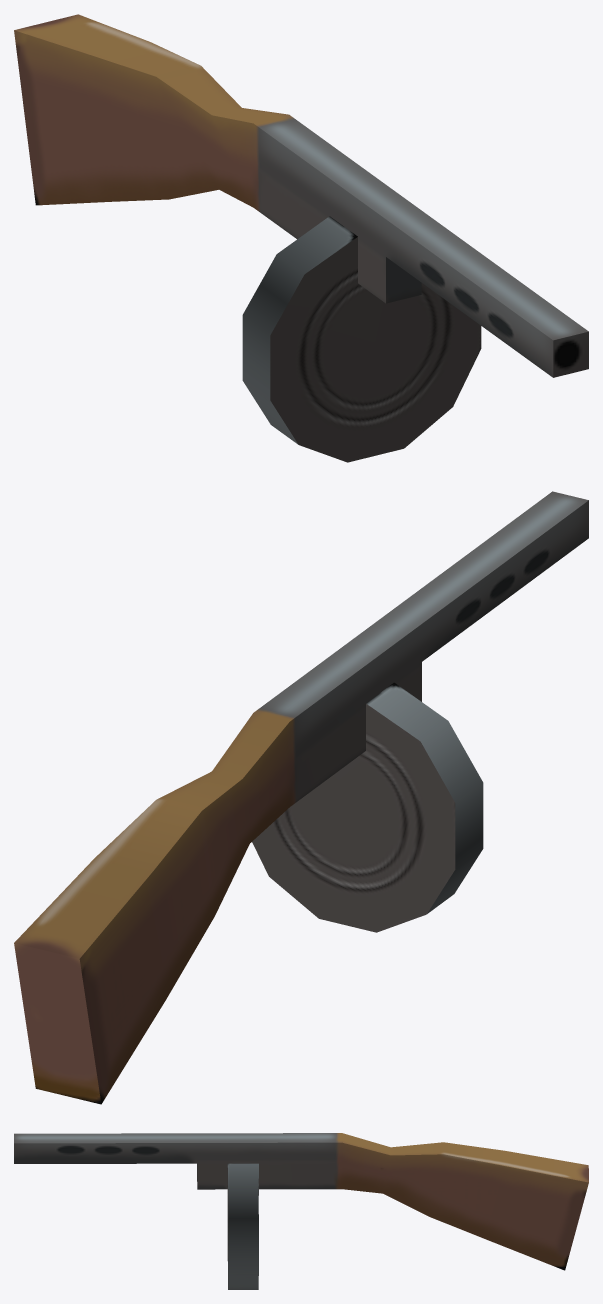
The model's file is Gun.fbx.
3 renders of one model, top to bottom at view 1: azimuth 30°, elevation 25°; view 2: azimuth 150°, elevation 25°; view 3: azimuth 270°, elevation 25°, orthographic. The views are drawn at different scales.
Parts seen in each view (by area): view 1: Gun; view 2: Gun; view 3: Gun.
Boxes of the visible parts, x1,y1,x2,y2 form: Gun: (14,14,588,462); Gun: (14,491,588,1104); Gun: (14,1133,588,1289).
Size of the model in its own units: 25.73 by 30.33 by 110.
